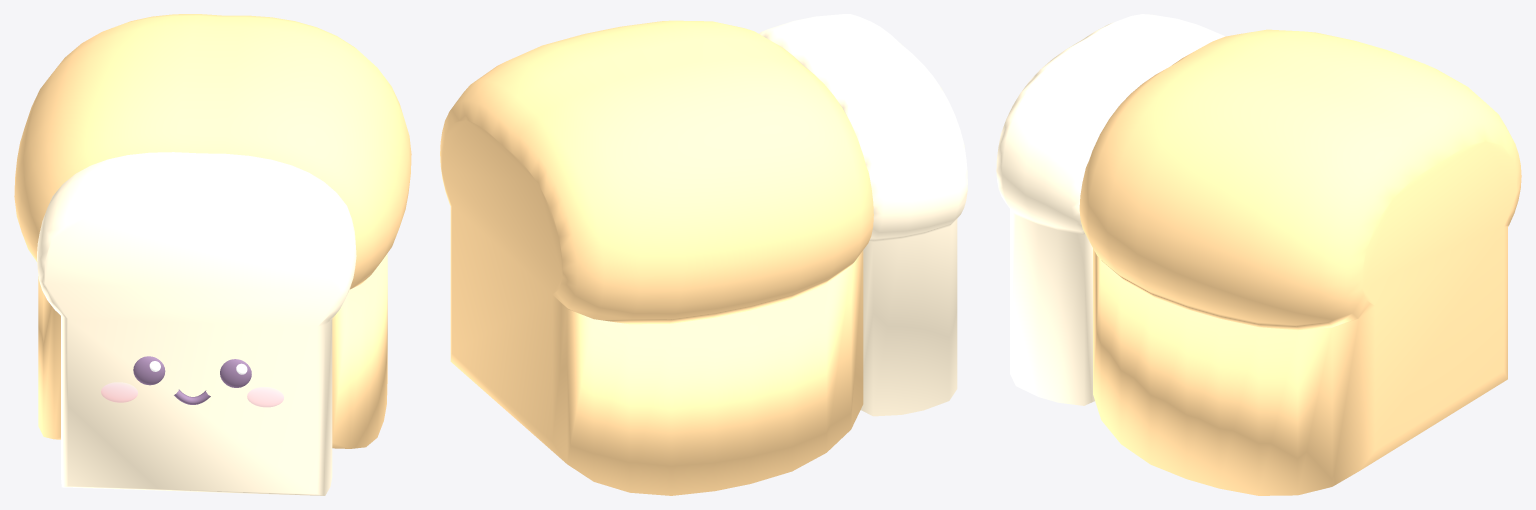
Rendered from life_toast.glb.
3 views of the same model, side by side, from view 1: azimuth 30°, elevation 25°; view 2: azimuth 150°, elevation 25°; view 3: azimuth 270°, elevation 25° (orthographic).
Parts seen in each view (by area): view 1: wrap_toast_1, object 3, object 1; view 2: wrap_toast_1; view 3: wrap_toast_1.
Boxes of the visible parts, x1,y1,x2,y2 form: wrap_toast_1: [14, 14, 411, 495]; object 3: [220, 359, 251, 387]; object 1: [133, 356, 165, 385]; wrap_toast_1: [440, 14, 967, 495]; wrap_toast_1: [996, 14, 1521, 495].
Bounding box in the file's own units: 2.68 × 2.12 × 2.85.
